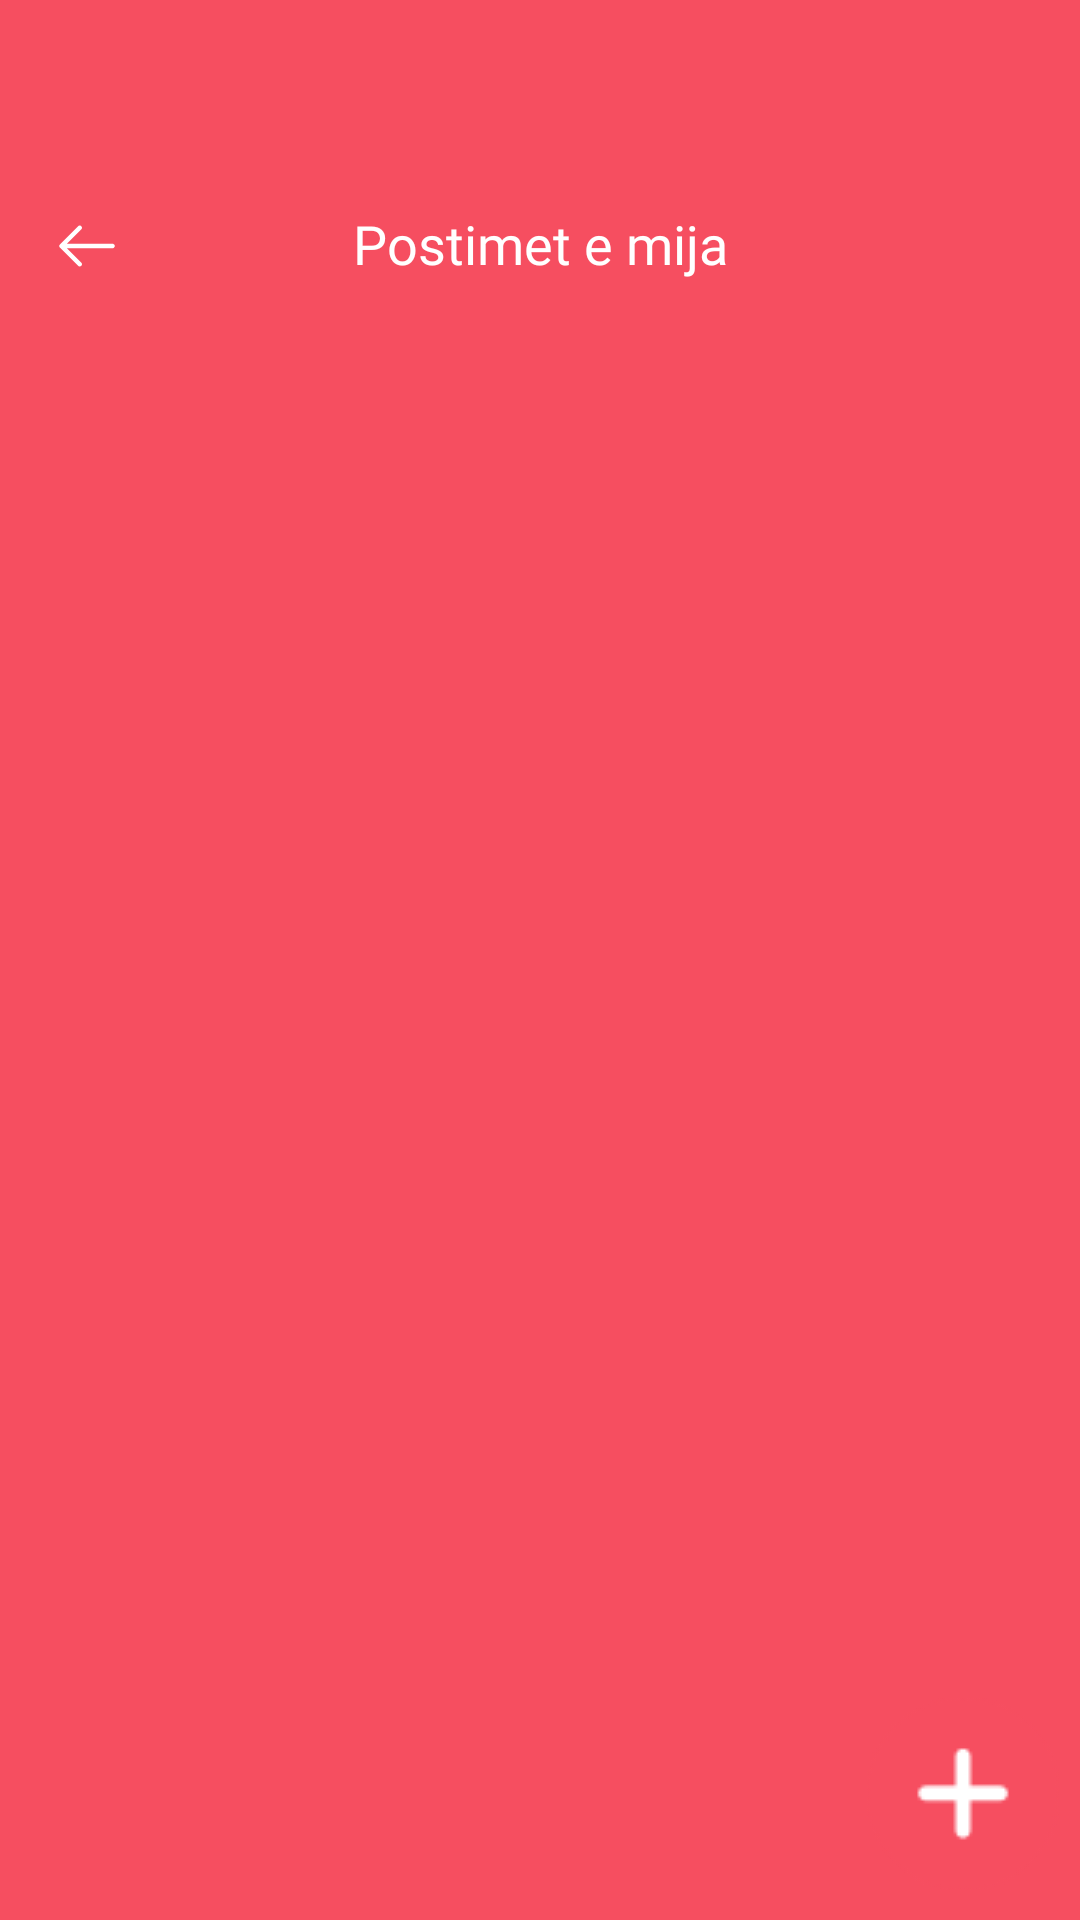

Where icons sit on this 1080 × 1920 app screen, as (x1, y1, x2, y2):
add: (917, 1748, 1009, 1840)
back: (59, 225, 115, 267)
